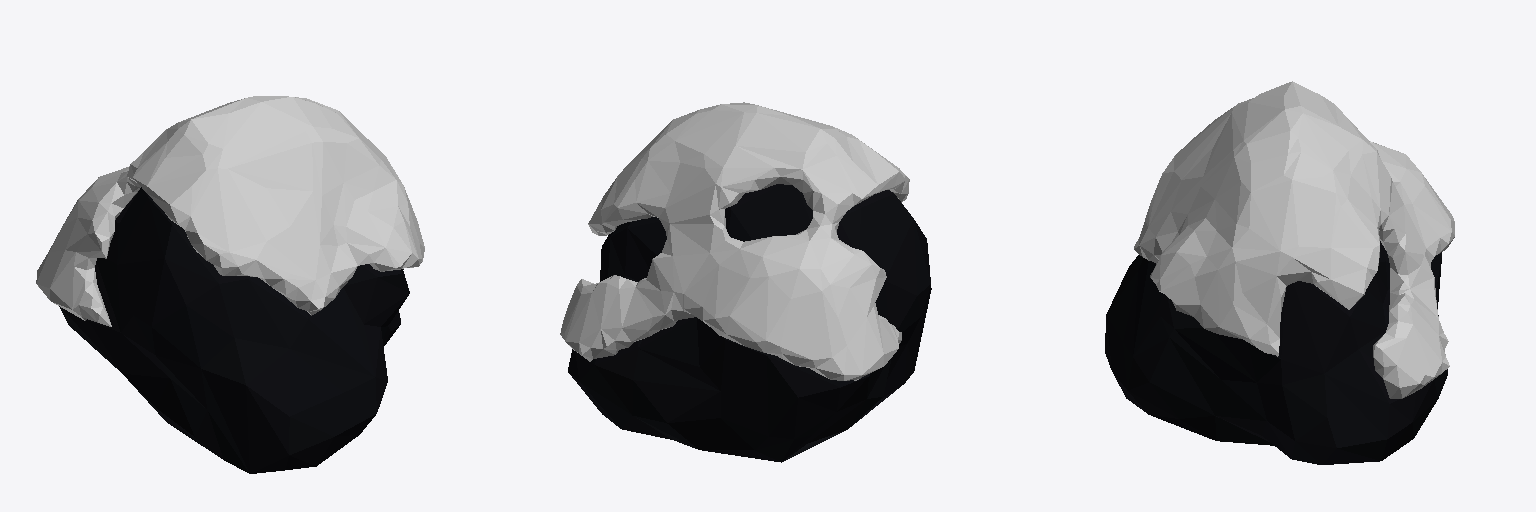
File: Rock_2.obj
The picture shows the model from 3 angles: view 1: azimuth 30°, elevation 25°; view 2: azimuth 150°, elevation 25°; view 3: azimuth 270°, elevation 25°; orthographic projection.
Parts seen in each view (by area): view 1: Rock_2, Rock_2_Snow; view 2: Rock_2_Snow, Rock_2; view 3: Rock_2_Snow, Rock_2.
Boxes of the visible parts, x1=… form: Rock_2: x1=59, y1=187, x2=409, y2=473; Rock_2_Snow: x1=36, y1=96, x2=424, y2=326; Rock_2_Snow: x1=560, y1=102, x2=909, y2=380; Rock_2: x1=568, y1=184, x2=931, y2=462; Rock_2_Snow: x1=1134, y1=81, x2=1454, y2=398; Rock_2: x1=1105, y1=241, x2=1447, y2=464.
Size of the model in its own units: 1.18 by 1.05 by 1.11.